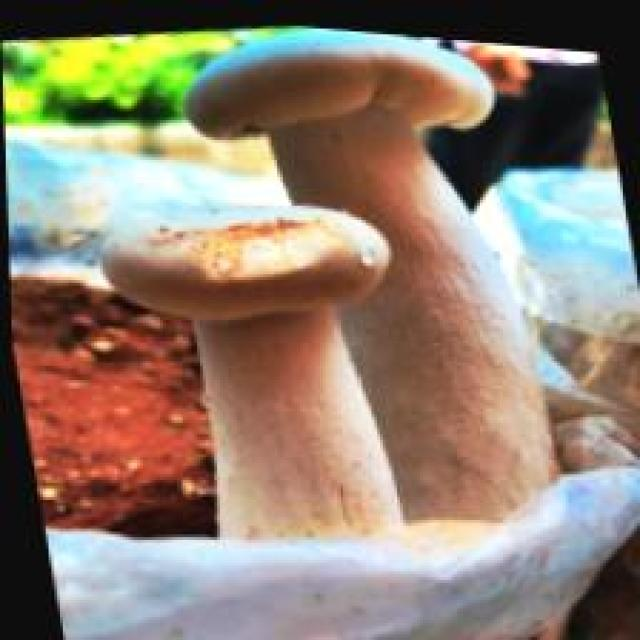field-mushroom: (100, 200, 403, 540)
